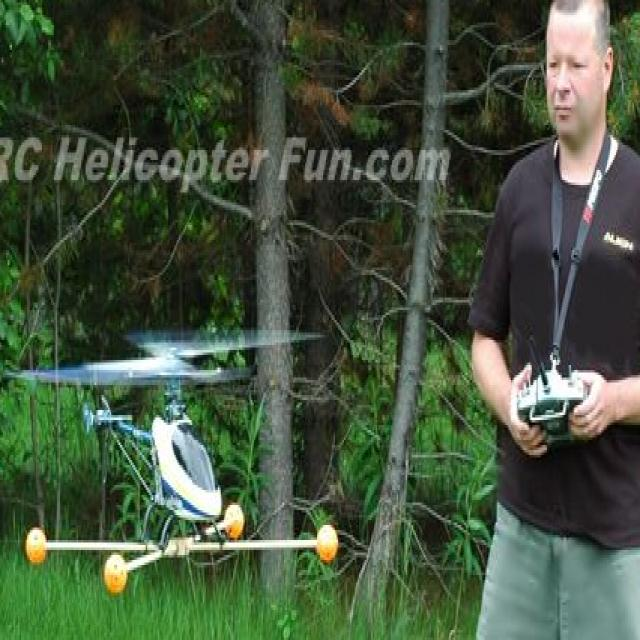helicopter: (27, 334, 347, 589)
